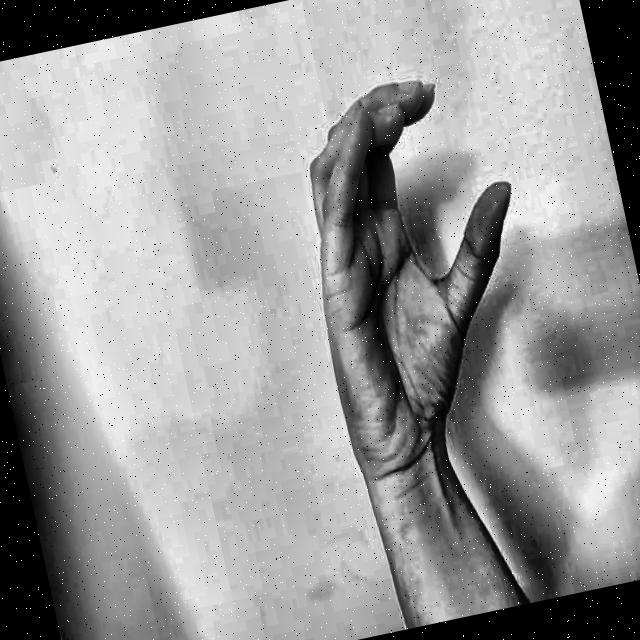A: (248, 36, 570, 480)
